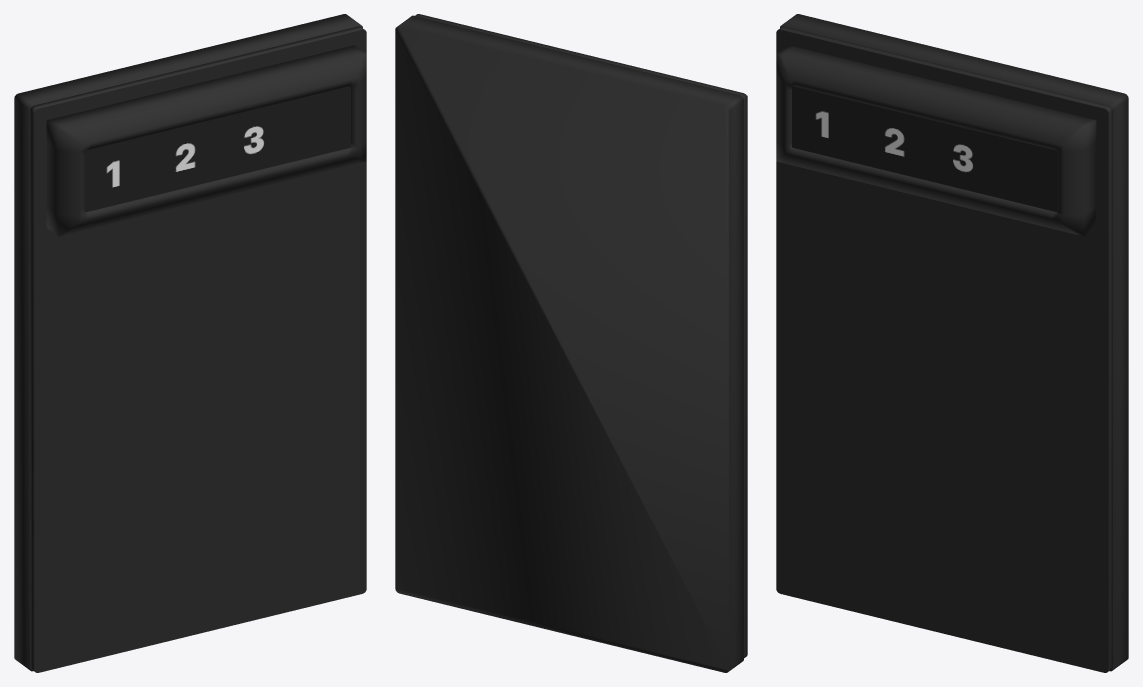
Rendered from Keypad_Housing.fbx.
The picture shows the model from 3 angles, left to right: view 1: azimuth 30°, elevation 25°; view 2: azimuth 150°, elevation 25°; view 3: azimuth 330°, elevation 25°; orthographic projection.
Visible parts, largest first — view 1: Plane.001, Plane.002, Plane.003; view 2: Plane.001; view 3: Plane.001, Plane.002, Plane.003.
Boxes of the visible parts, x1,y1,x2,y2 form: Plane.001: (14,14,366,672); Plane.002: (46,45,366,236); Plane.003: (85,86,350,212); Plane.001: (395,14,747,672); Plane.001: (776,14,1128,672); Plane.002: (776,45,1096,236); Plane.003: (792,86,1057,212).
Bounding box in the file's own units: 32.53 × 52.76 × 6.4.
Materials: 2 (1 with a texture image).
